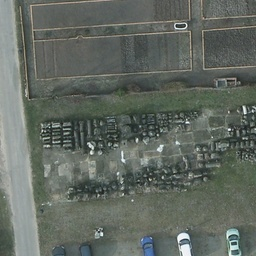car: (224, 228, 240, 256), (176, 232, 192, 255), (140, 234, 153, 256)
